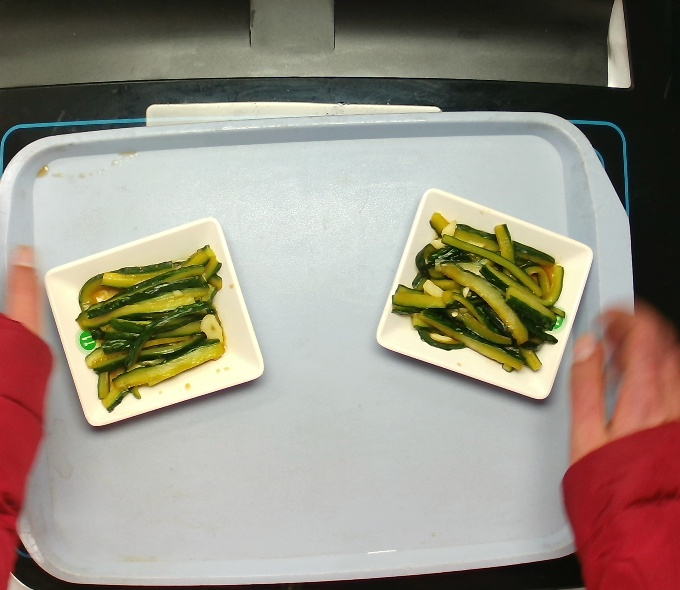wcq-LiangBanHuangGua: (385, 209, 569, 376), (71, 241, 228, 414)
